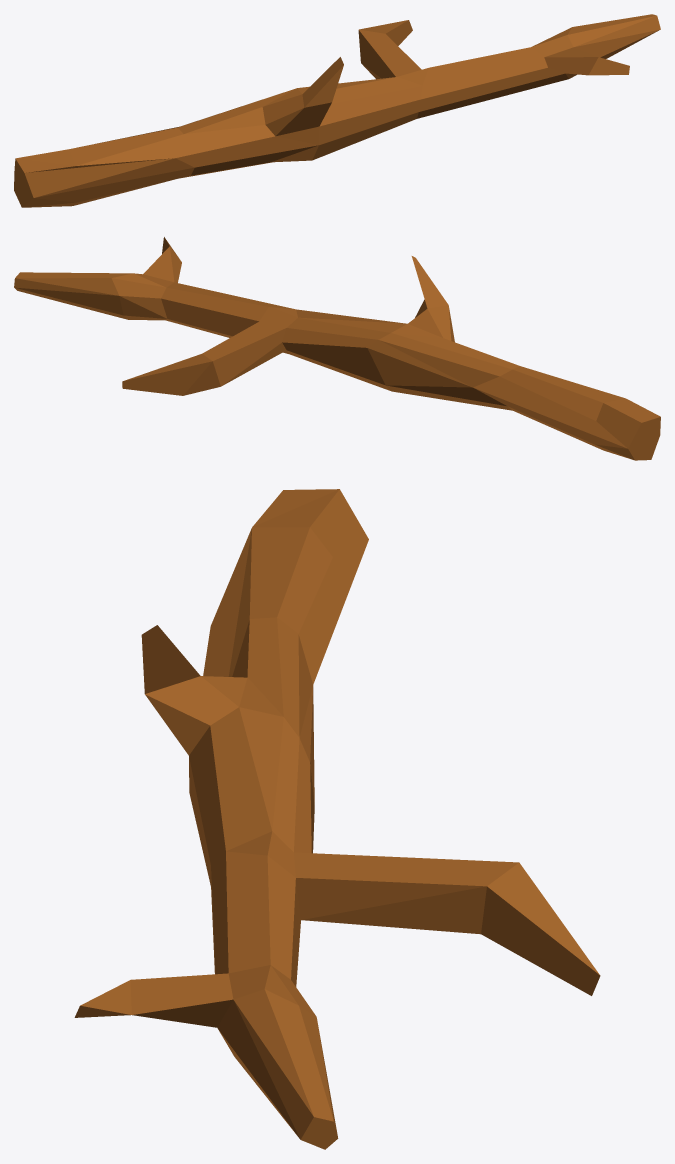
Rendered from Stick.fbx.
3 views of the same model, one above another, from view 1: azimuth 30°, elevation 25°; view 2: azimuth 150°, elevation 25°; view 3: azimuth 270°, elevation 25° (orthographic). The views are drawn at different scales.
Visible parts, largest first — view 1: Stick; view 2: Stick; view 3: Stick.
Part boxes in pixels (x1,y1,x2,y2): Stick: (14, 14, 660, 207); Stick: (14, 237, 660, 460); Stick: (74, 489, 600, 1149).
Size of the model in its own units: 911 by 155 by 327.
